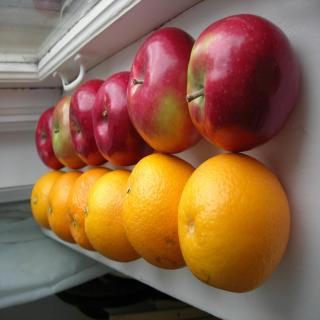Apple: (185, 12, 293, 156), (125, 28, 203, 154), (90, 72, 154, 168), (66, 78, 108, 167), (51, 95, 87, 171), (35, 106, 65, 171)
Orange: (172, 154, 290, 295), (124, 153, 194, 270), (86, 171, 142, 263), (66, 166, 110, 250), (49, 173, 83, 245), (28, 172, 61, 229)
